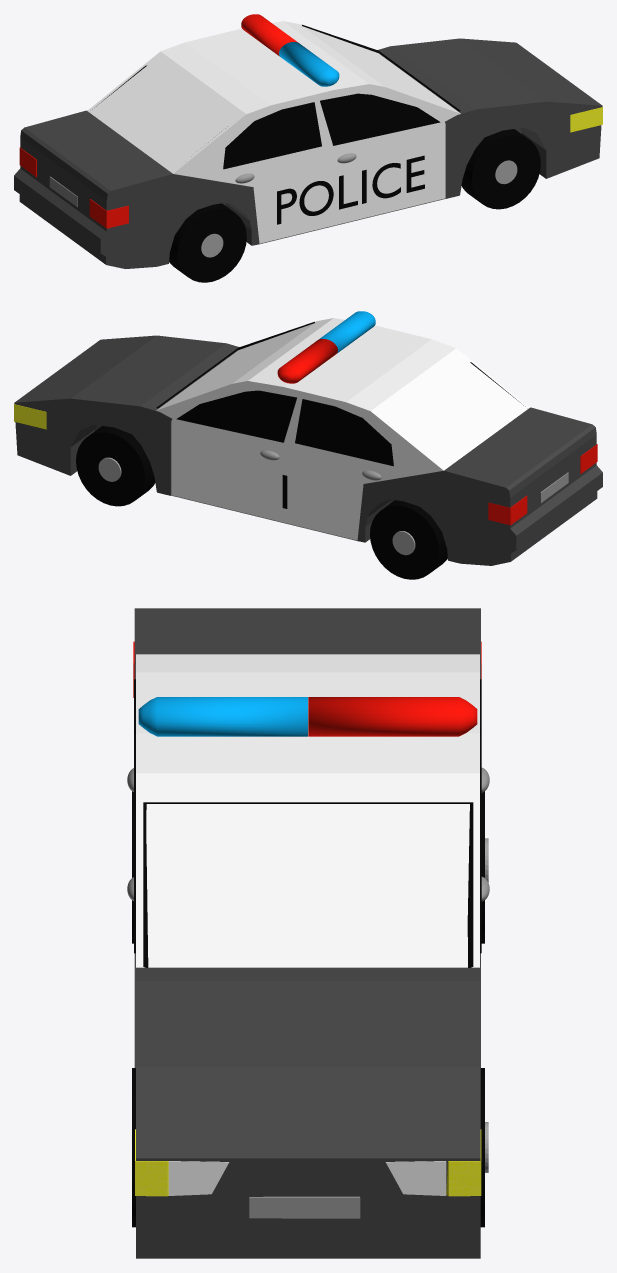
The model's file is police_car_low_poly.glb.
The picture shows the model from 3 angles, top to bottom: view 1: azimuth 30°, elevation 25°; view 2: azimuth 150°, elevation 25°; view 3: azimuth 270°, elevation 25°; orthographic projection. The views are drawn at different scales.
Visible parts, largest first — view 1: object 1, Texte; view 2: object 1; view 3: object 1.
Part boxes in pixels (box(x1,y1,x2,y2)): object 1: box(14, 14, 602, 282); Texte: box(277, 155, 424, 224); object 1: box(14, 311, 602, 579); object 1: box(127, 608, 489, 1258).
Size of the model in its own units: 4.09 by 1.38 by 1.28.
23 materials, 23 textured.
